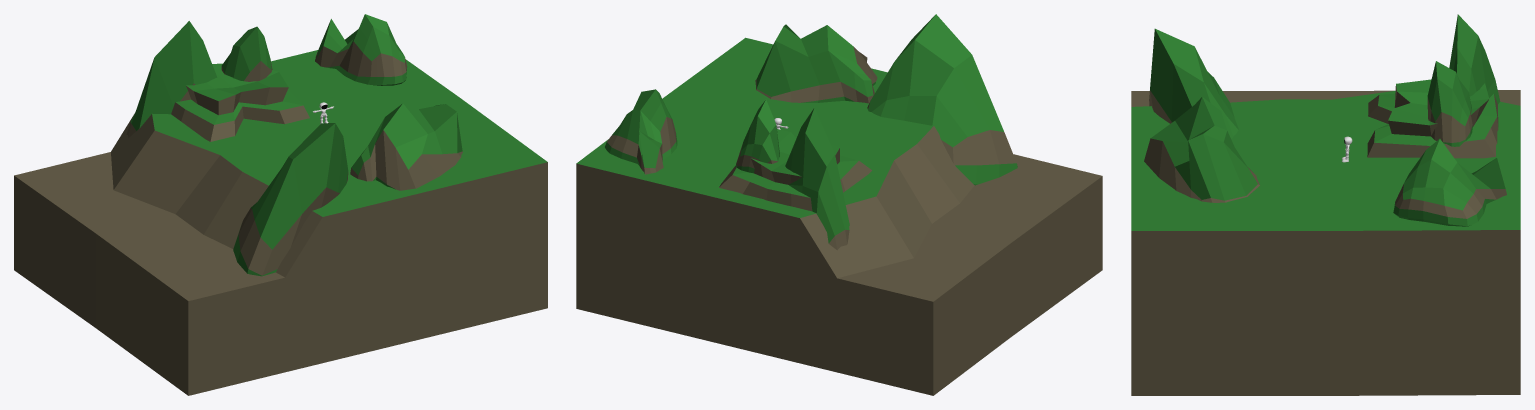
The model's file is ground-2.fbx.
The picture shows the model from 3 angles, left to right: view 1: azimuth 30°, elevation 25°; view 2: azimuth 150°, elevation 25°; view 3: azimuth 270°, elevation 25°; orthographic projection. The views are drawn at different scales.
Visible parts, largest first — view 1: Plane.001, Cube.006, Cube.007; view 2: Plane.001, Cube.006, Cube.007; view 3: Plane.001, Cube.006, Cube.007.
Part boxes in pixels (x1,y1,x2,y2): Plane.001: [14, 50, 547, 395]; Cube.006: [126, 14, 462, 276]; Cube.007: [171, 63, 309, 141]; Plane.001: [576, 37, 1102, 395]; Cube.006: [605, 14, 1017, 250]; Cube.007: [719, 129, 871, 211]; Plane.001: [1131, 90, 1520, 395]; Cube.006: [1144, 14, 1506, 226]; Cube.007: [1367, 79, 1498, 158].
Size of the model in its own units: 1860 by 1151 by 1537.
